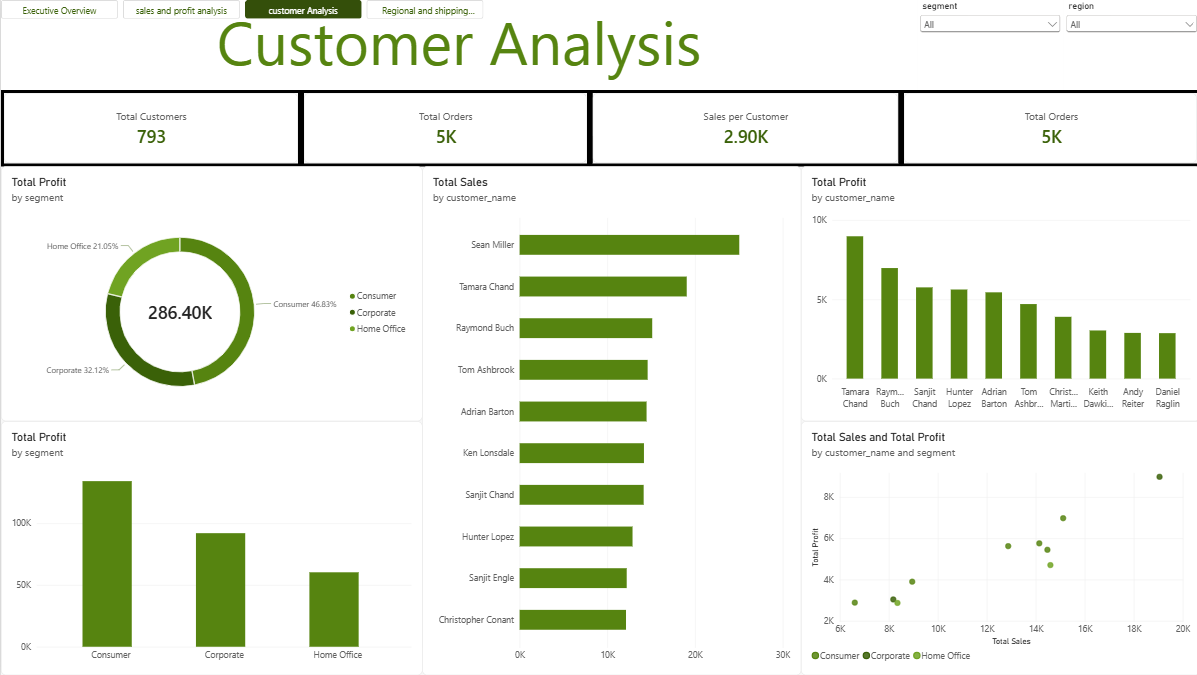

Layout of this report page (visuals, bound fields, positions):
{"tool":"powerbi","page":{"name":"customer Analysis","canvas":[1920,1080],"ordinal":2},"visuals":[{"type":"cardVisual","fields":{"Data":["fact_sales.Total Customers"]},"box":[0,144,480,122],"z":0},{"type":"cardVisual","fields":{"Data":["fact_sales.Total Orders"]},"box":[480,144,462,122],"z":1000},{"type":"cardVisual","fields":{"Data":["fact_sales.Sales per Customer"]},"box":[942,144,498,122],"z":2000},{"type":"cardVisual","fields":{"Data":["fact_sales.Total Orders"]},"box":[1440,144,480,122],"z":3000},{"type":"textbox","box":[0,0,1466,144],"z":4000},{"type":"donutChart","fields":{"Category":["dim_customer.segment"],"Y":["fact_sales.Total Profit"]},"box":[0,266,674,408],"z":5000},{"type":"clusteredColumnChart","fields":{"Category":["dim_customer.segment"],"Y":["fact_sales.Total Profit"]},"box":[0,674,674,406],"z":6000},{"type":"clusteredBarChart","fields":{"Category":["dim_customer.customer_name"],"Y":["fact_sales.Total Sales"]},"box":[674,266,606,814],"z":7000},{"type":"clusteredColumnChart","fields":{"Category":["dim_customer.customer_name"],"Y":["fact_sales.Total Profit"]},"box":[1280,266,640,408],"z":8000},{"type":"scatterChart","fields":{"Category":["dim_customer.customer_name"],"Series":["dim_customer.segment"],"X":["fact_sales.Total Sales"],"Y":["fact_sales.Total Profit"]},"box":[1280,674,640,406],"z":9000},{"type":"slicer","fields":{"Values":["dim_customer.segment"]},"box":[1466,0,234,144],"z":10000},{"type":"slicer","fields":{"Values":["dim_location.region"]},"box":[1700,0,220,144],"z":12000},{"type":"pageNavigator","box":[0,0,774,30],"z":13000}]}

Visuals, with their boxes on the page's 1920x1080 design canvas (x1, y1, x2, y2). These are canvas units, not pixel positions in the 1197x675 screenshot, which may show the page scaled, cropped or inside an application window:
cardVisual - fact_sales.Total Customers: region(0, 144, 480, 266)
cardVisual - fact_sales.Total Orders: region(480, 144, 942, 266)
cardVisual - fact_sales.Sales per Customer: region(942, 144, 1440, 266)
cardVisual - fact_sales.Total Orders: region(1440, 144, 1920, 266)
textbox: region(0, 0, 1466, 144)
donutChart - dim_customer.segment x fact_sales.Total Profit: region(0, 266, 674, 674)
clusteredColumnChart - dim_customer.segment x fact_sales.Total Profit: region(0, 674, 674, 1080)
clusteredBarChart - dim_customer.customer_name x fact_sales.Total Sales: region(674, 266, 1280, 1080)
clusteredColumnChart - dim_customer.customer_name x fact_sales.Total Profit: region(1280, 266, 1920, 674)
scatterChart - dim_customer.customer_name x dim_customer.segment: region(1280, 674, 1920, 1080)
slicer - dim_customer.segment: region(1466, 0, 1700, 144)
slicer - dim_location.region: region(1700, 0, 1920, 144)
pageNavigator: region(0, 0, 774, 30)
